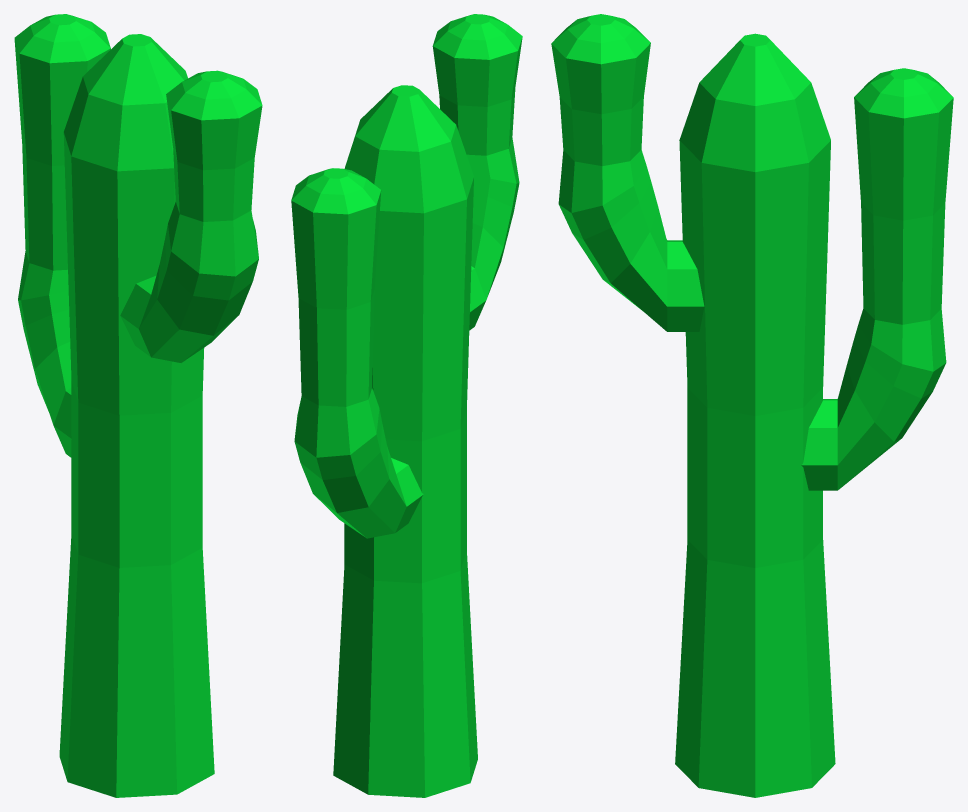
Rendered from Cactus_1.fbx.
The picture shows the model from 3 angles, left to right: view 1: azimuth 30°, elevation 25°; view 2: azimuth 150°, elevation 25°; view 3: azimuth 270°, elevation 25°; orthographic projection. The views are drawn at different scales.
Visible parts, largest first — view 1: CactusMainBody; view 2: CactusMainBody; view 3: CactusMainBody.
Boxes of the visible parts, <box> form: CactusMainBody: <box>14,14,262,797</box>; CactusMainBody: <box>291,14,522,797</box>; CactusMainBody: <box>551,14,953,797</box>.
Bounding box in the file's own units: 113 × 578 × 283.
